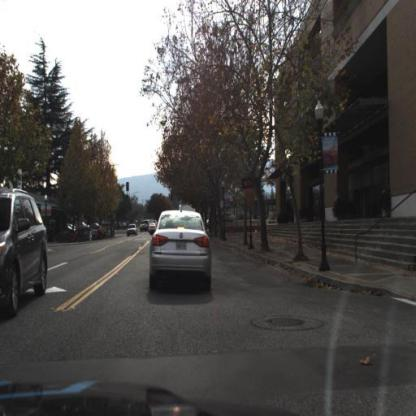car: (2, 189, 50, 319), (150, 209, 214, 293), (88, 226, 99, 242), (127, 222, 138, 238), (150, 222, 157, 233)
